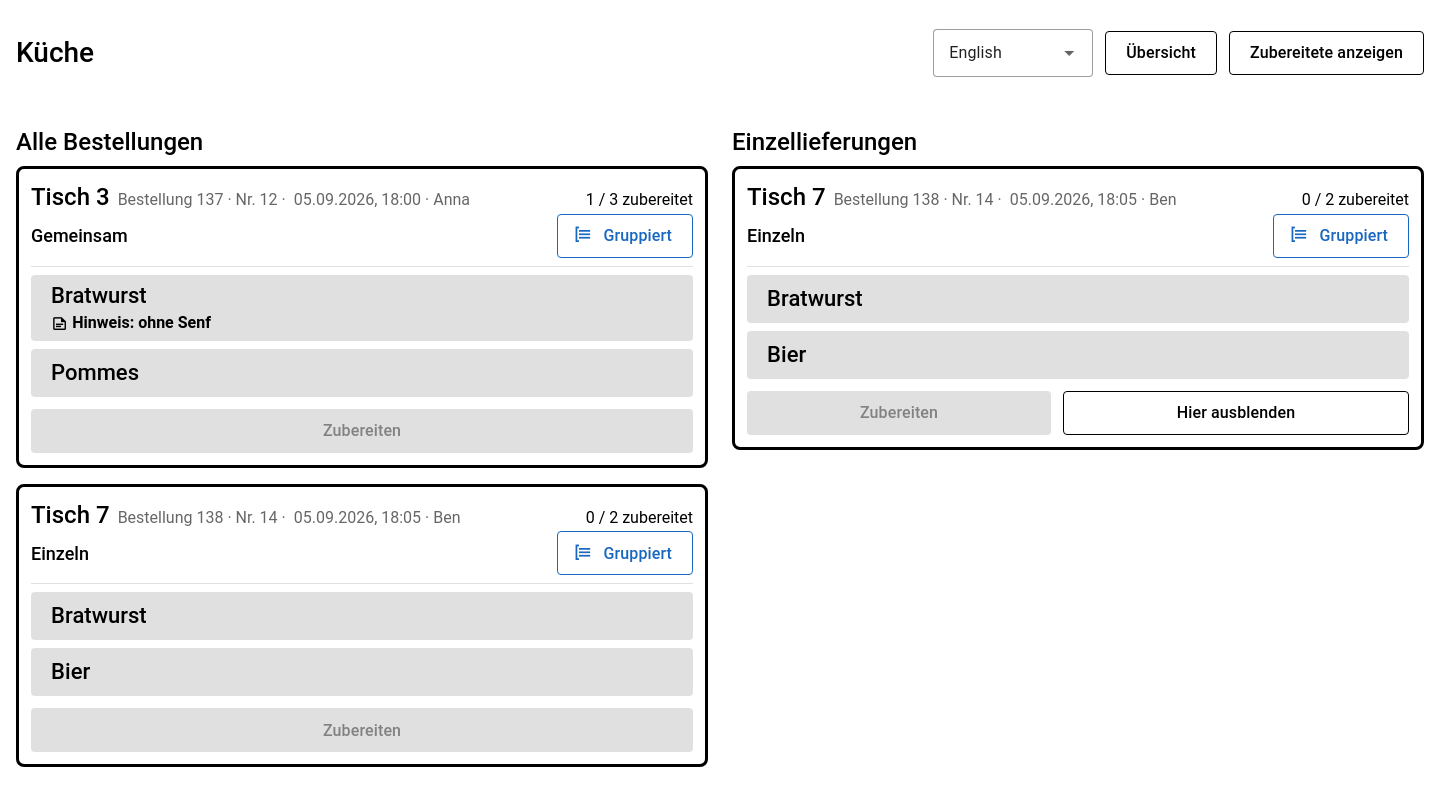
Test: the done view › opens from the button and lists every order with at least one done item
The image size is (1440, 810).
Click the button with test id "show-done" at (1326, 53), box [1229, 31, 1424, 75]
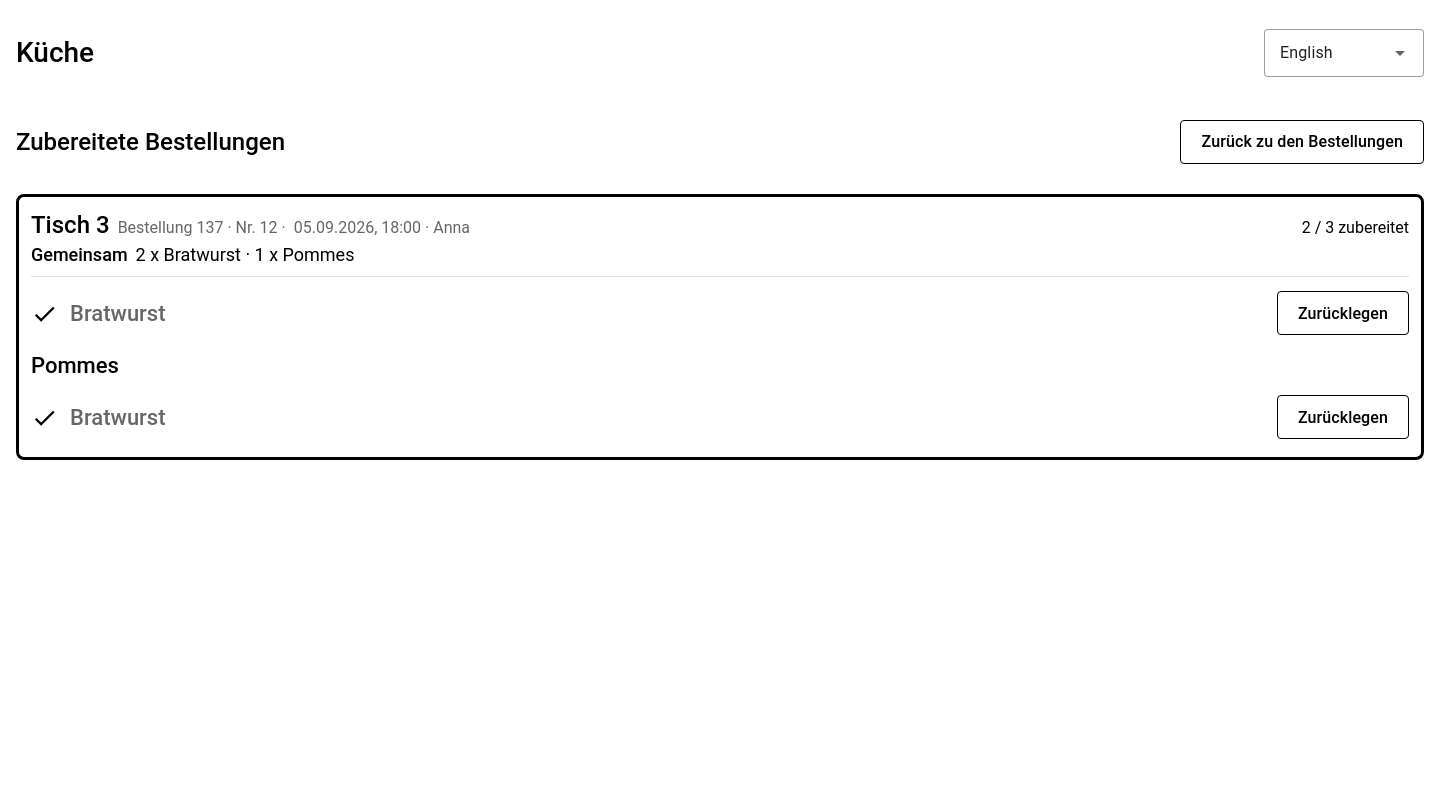
Expected: the heading with test id "done-heading" reads "Zubereitete Bestellungen", [16, 128, 285, 156]
Expected: the button with test id "back-to-orders" reads "Zurück zu den Bestellungen", [1180, 120, 1424, 164]
